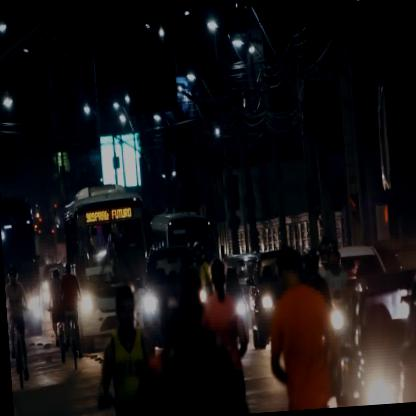bus: (63, 180, 153, 356)
motorcycle: (4, 267, 33, 388), (59, 260, 85, 370), (48, 268, 70, 363)
